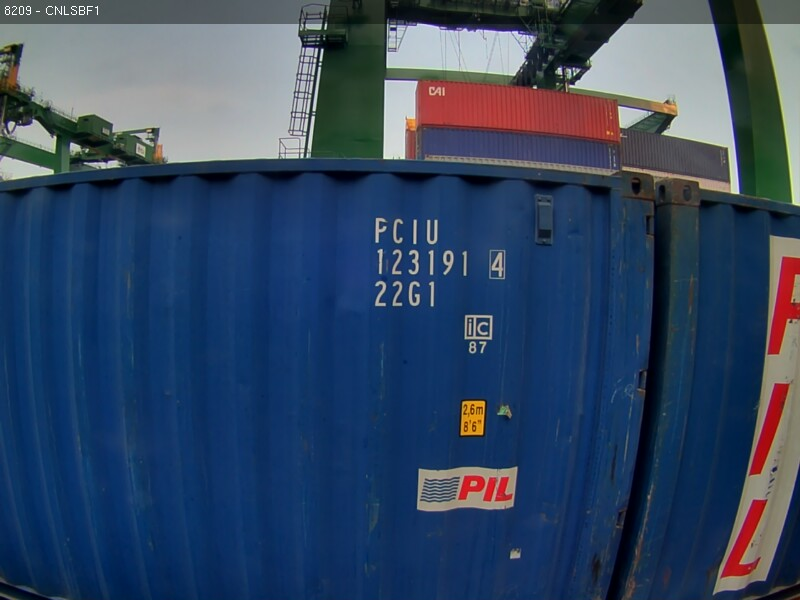container_no_door: (156, 155, 663, 599)
